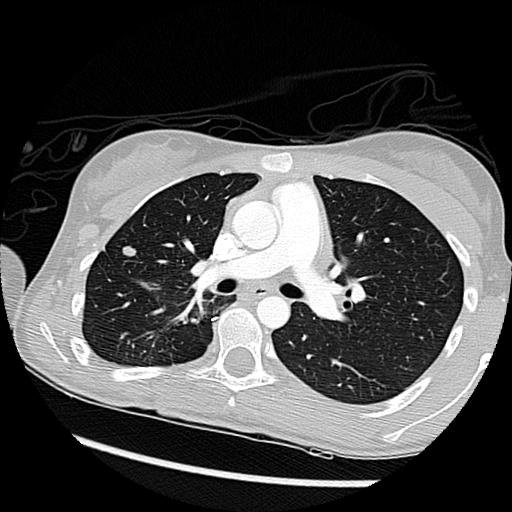nodule: (120, 242, 139, 261)
